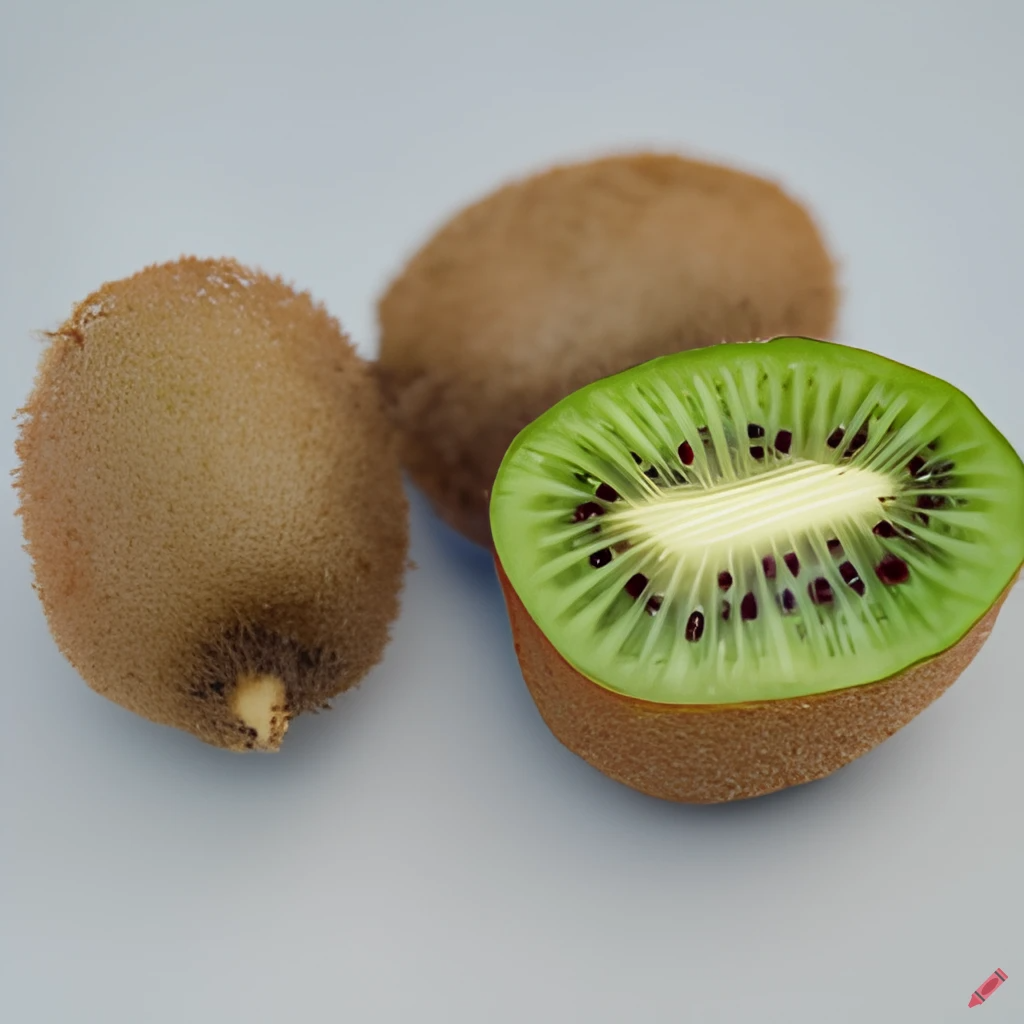Kiwi: (466, 319, 1024, 832), (19, 221, 411, 772)
